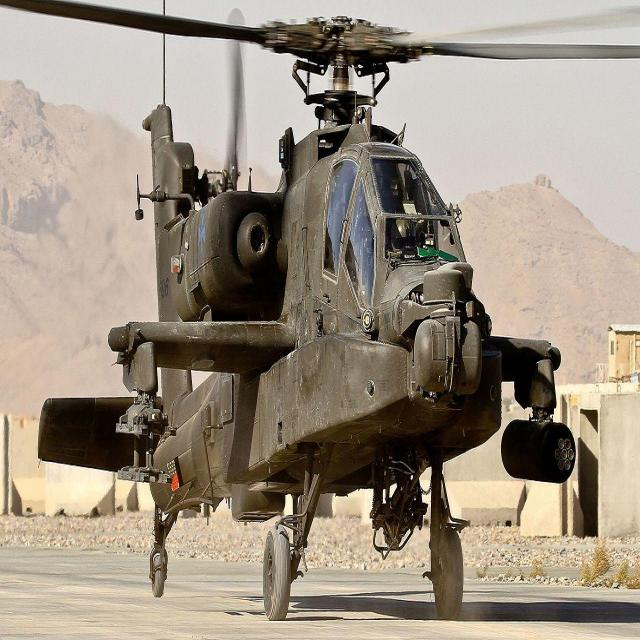MIL_HELO: (19, 0, 620, 618)
